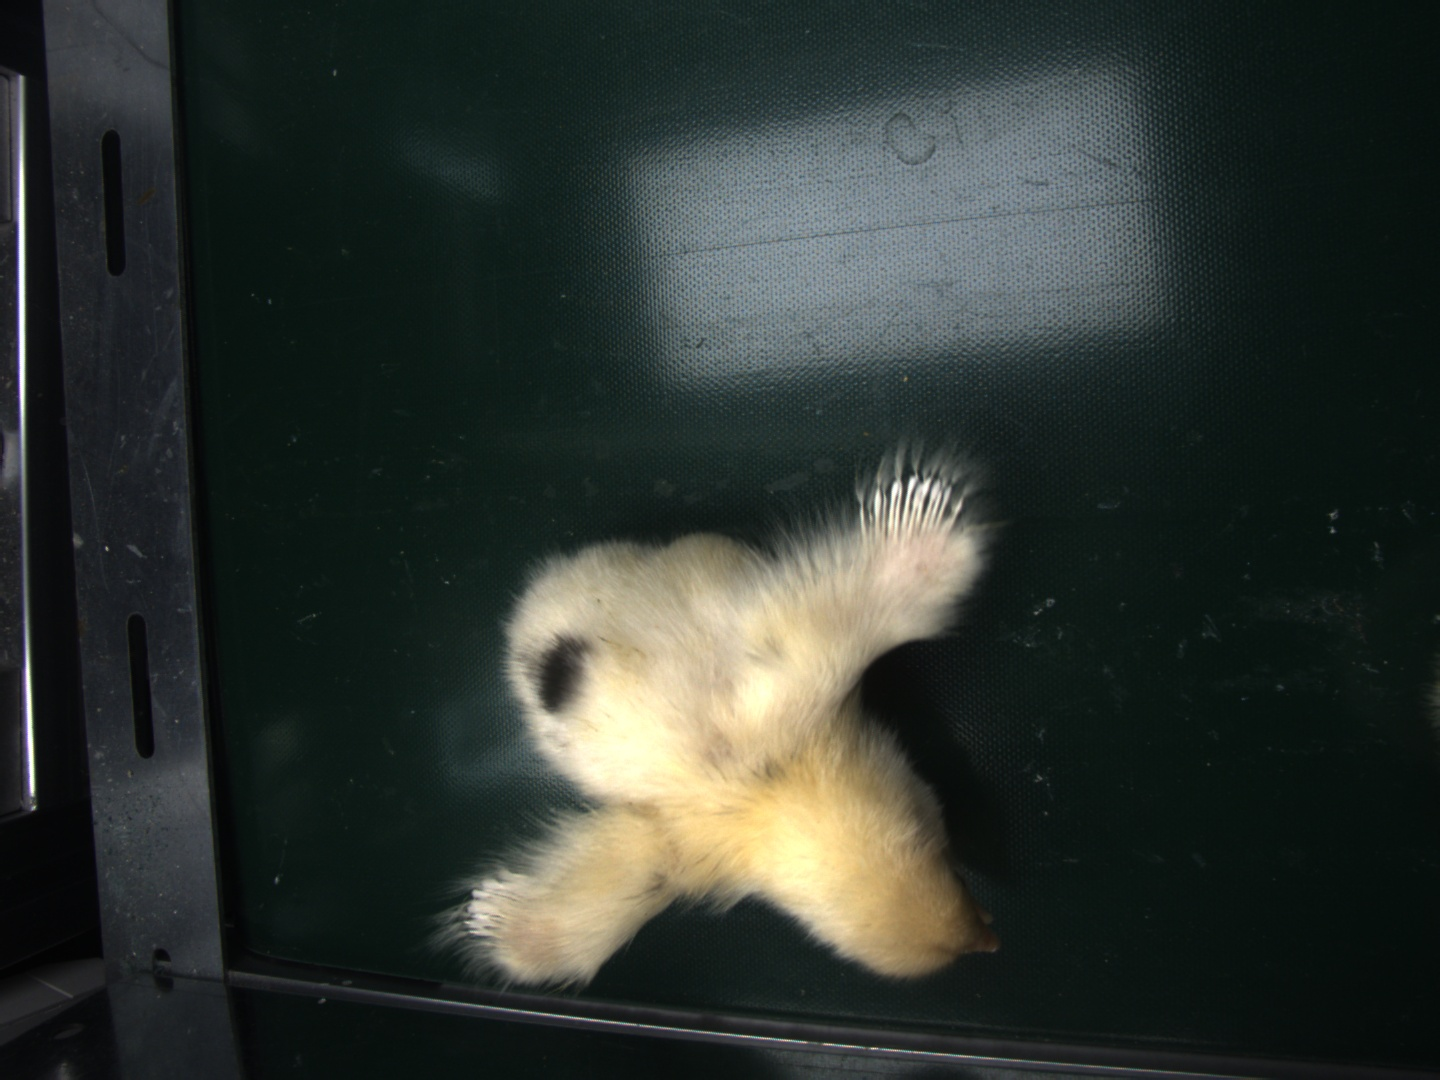male: (861, 483, 960, 542)
